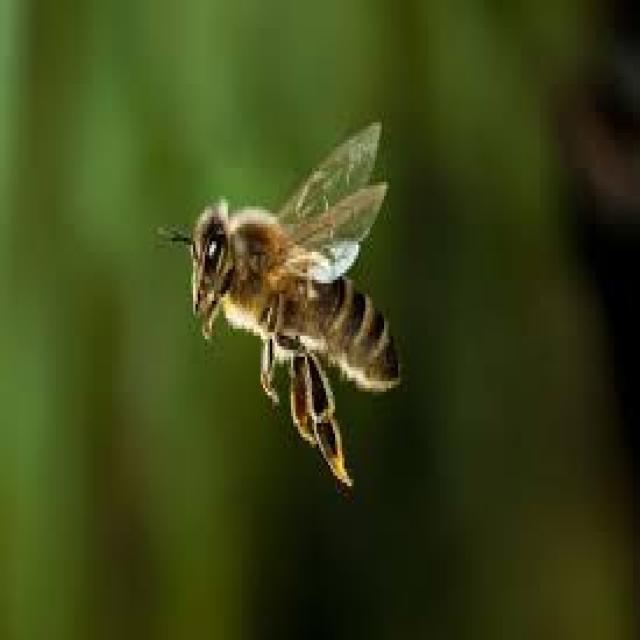Bees: (161, 120, 399, 490)
